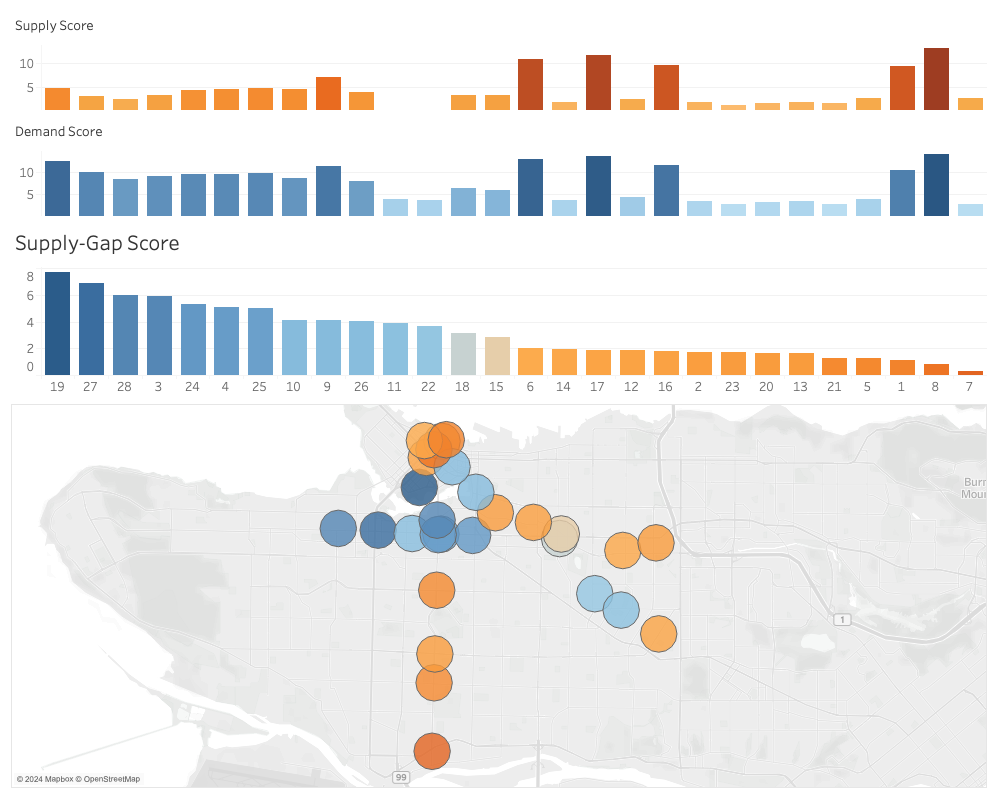

The page's visual inventory and layout, read from the dashboard file:
{"tool":"tableau","page":{"name":"results/bar-map","canvas":[1000,800],"ordinal":9},"visuals":[{"type":"worksheet","title":"results/supply/bar","mark":"Automatic","rows":["supply_score"],"cols":["station_id"],"box":[8,8,984,106]},{"type":"worksheet","title":"results/demand/bar","mark":"Automatic","rows":["demand_score"],"cols":["station_id"],"box":[8,114,984,106]},{"type":"worksheet","title":"results/supply-gap/bar","mark":"Automatic","rows":["supply_gap_score"],"cols":["station_id"],"box":[8,220,984,180]},{"type":"worksheet","title":"results/supply-gap/map","mark":"Automatic","box":[8,400,984,392]}]}

Visuals, with their boxes in screenshot pixels (x1, y1, x2, y2), scaled from the page's 1000x800 canvas onto the 999x800 screenshot:
"results/supply/bar" worksheet: rect(8, 8, 991, 114)
"results/demand/bar" worksheet: rect(8, 114, 991, 220)
"results/supply-gap/bar" worksheet: rect(8, 220, 991, 400)
"results/supply-gap/map" worksheet: rect(8, 400, 991, 792)
